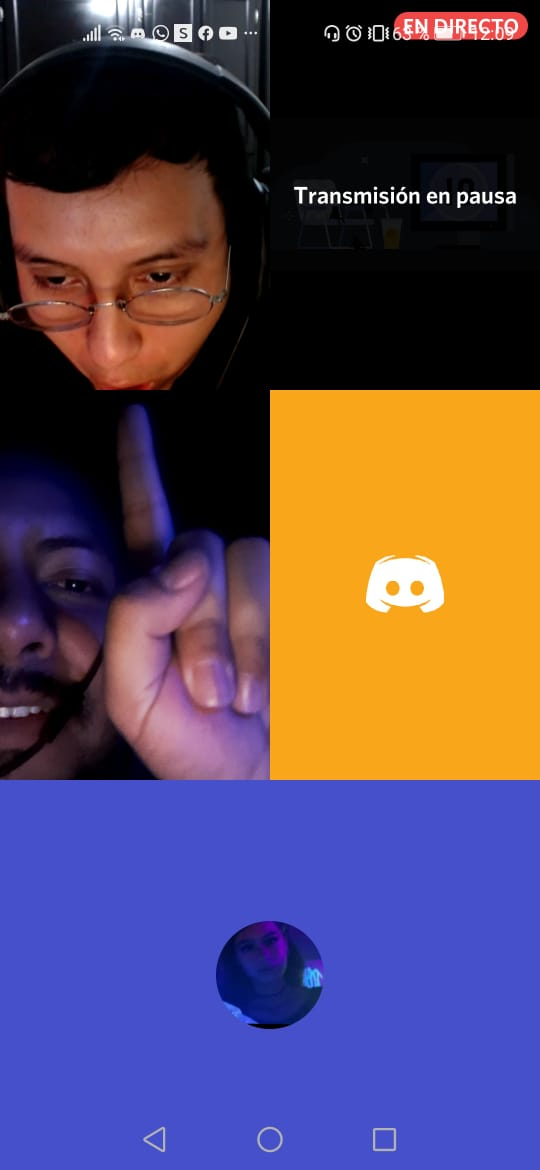Yoshi: (21, 410, 130, 764)
